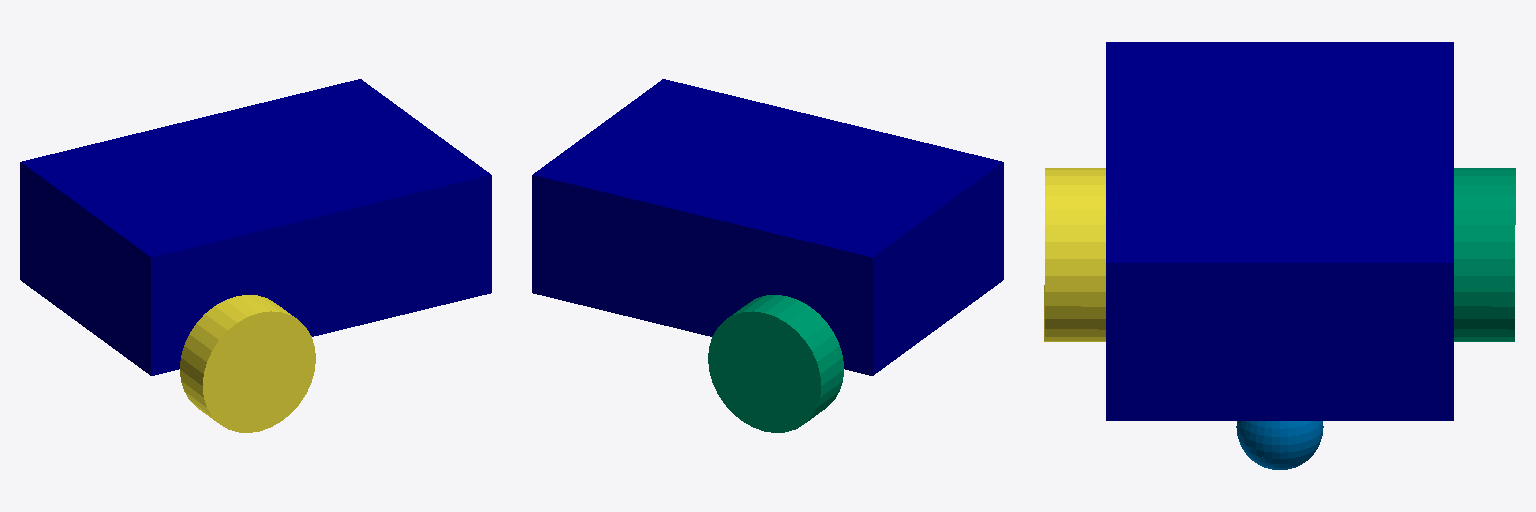
The robot description file, URDF, robot "my_robot":
<?xml version="1.0"?>
<robot name="my_robot">

    <material name="blue">
        <color rgba="0 0 0.6 1" />
    </material>

    <link name="base_footprint" />

    <link name="base_link">
        <visual>
            <geometry>
                <box size="0.6 0.4 0.2"/>
            </geometry>1 
            <origin xyz="0 0 0.1" rpy="0 0 0"/>
            <material name="blue" />
        </visual>
    </link>

    <link name="right_wheel_link">
        <visual>
            <geometry>
                <cylinder radius="0.1" length="0.07"/>
            </geometry>
            <origin xyz="0 0 0" rpy="1.57 0 0" />
        </visual>
    </link>

    <link name="left_wheel_link">
        <visual>
            <geometry>
                <cylinder radius="0.1" length="0.07" />
            </geometry>
            <origin xyz="0 0 0" rpy="1.57 0 0" />
        </visual>
    </link>

    <link name="castor_wheel_link">
        <visual>
            <geometry>
                <sphere radius="0.05" />
            </geometry>
            <origin xyz="0 0 0" rpy="0 0 0" />
        </visual>
    </link>

    <joint name="base_right_wheel_joint" type="continuous">
        <parent link="base_link" />
        <child link="right_wheel_link" />
        <origin xyz="-0.15 0.235 0" rpy="0 0 0" />
        <axis xyz="0 1 0" />
    </joint>

    <joint name="base_left_wheel_link" type="continuous">
        <parent link="base_link" />
        <child link="left_wheel_link" />
        <origin xyz="-0.15 -0.235 0" rpy="0 0 0" />
        <axis xyz="0 1 0" />
    </joint>

    <joint name="base_castor_wheel_link" type="fixed">
        <parent link="base_link" />
        <child link="castor_wheel_link" />
        <origin xyz="0.22 0 -0.045" rpy="0 0 0" />
    </joint>

    <joint name="base_joint" type="fixed">
        <parent link="base_footprint" />
        <child link="base_link" />
        <origin xyz="0 0 0.1" rpy="0 0 0" />
    </joint>


    <!-- <joint name="base_second_joint" type="continuous">
        <parent link="base_link" />
        <child link="second_link" />
        <origin xyz="0 0 0.2" rpy="0 0 0" />
        <axis xyz="0 0 1" />
    </joint> -->

    <!-- <joint name="base_second_joint" type="prismatic">
        <parent link="base_link" />
        <child link="second_link" />
        <origin xyz="0 0 0.2" rpy="0 0 0" />
        <axis xyz="1 0 0" />
        <limit lower="0.0" upper="0.5" velocity="100" effort="100" />
    </joint> -->

</robot>    

--- Render facts (derived) ---
The picture shows the robot from 3 angles, left to right: view 1: azimuth 30°, elevation 25°; view 2: azimuth 150°, elevation 25°; view 3: azimuth 270°, elevation 25°; orthographic projection.
Robot: my_robot — 5 links, 4 joints (2 continuous, 2 fixed); root link base_footprint; default pose: all joints at 0.
Visible links, largest first — view 1: base_link, left_wheel_link; view 2: base_link, right_wheel_link; view 3: base_link, right_wheel_link, left_wheel_link, castor_wheel_link.
Link boxes in pixels (x1,y1,x2,y2): base_link: (20, 79, 491, 375); left_wheel_link: (180, 295, 315, 432); base_link: (532, 79, 1003, 375); right_wheel_link: (708, 295, 843, 432); base_link: (1106, 42, 1453, 420); right_wheel_link: (1454, 168, 1515, 341); left_wheel_link: (1044, 168, 1105, 341); castor_wheel_link: (1236, 421, 1323, 469).
Size in the robot's own frame: 0.6 by 0.5402 by 0.3 metres.
Geometry: primitives only (box / cylinder / sphere), no mesh files.